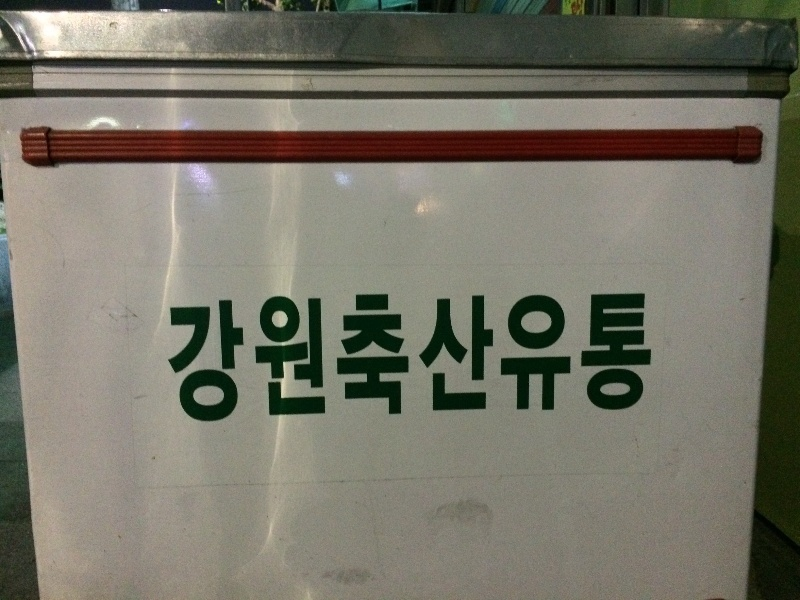text: (177, 285, 192, 427), (193, 285, 208, 427), (209, 285, 224, 427), (225, 285, 240, 427), (241, 285, 256, 427), (257, 285, 272, 427), (273, 285, 288, 427), (289, 285, 304, 427), (305, 285, 320, 427), (321, 285, 336, 427), (337, 285, 352, 427), (353, 285, 368, 427), (369, 285, 384, 427), (385, 285, 400, 427), (401, 285, 416, 427), (417, 285, 432, 427), (433, 285, 448, 427), (449, 285, 464, 427), (465, 285, 480, 427), (481, 285, 496, 427), (497, 285, 512, 427), (513, 285, 528, 427), (529, 285, 544, 427), (545, 285, 560, 427), (561, 285, 576, 427), (577, 285, 592, 427), (593, 285, 608, 427), (609, 285, 624, 427), (625, 285, 640, 427), (641, 285, 654, 427), (167, 285, 176, 427)
